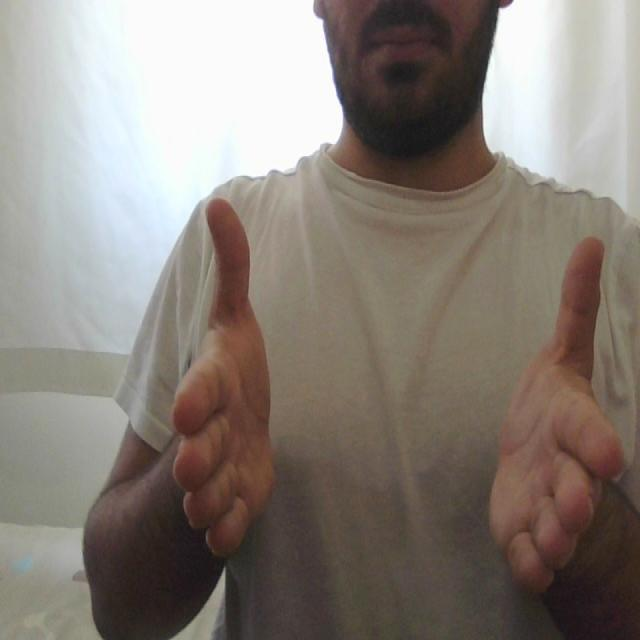Nasil: (167, 182, 630, 590)
